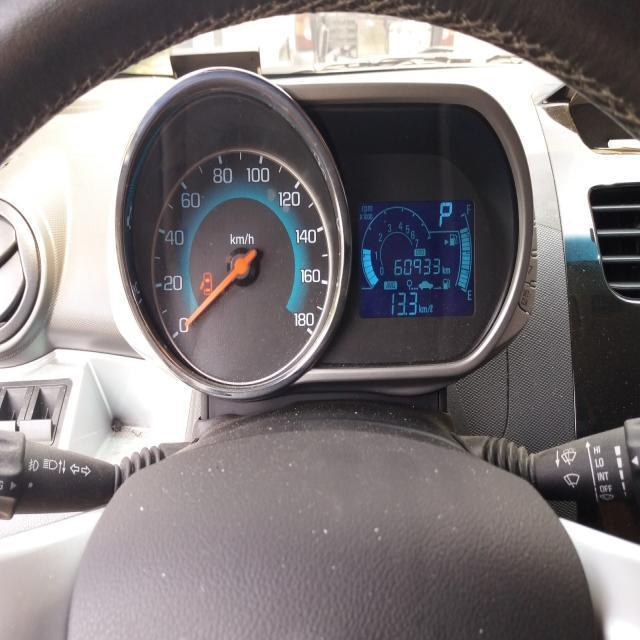Doors: (198, 270, 212, 294)
